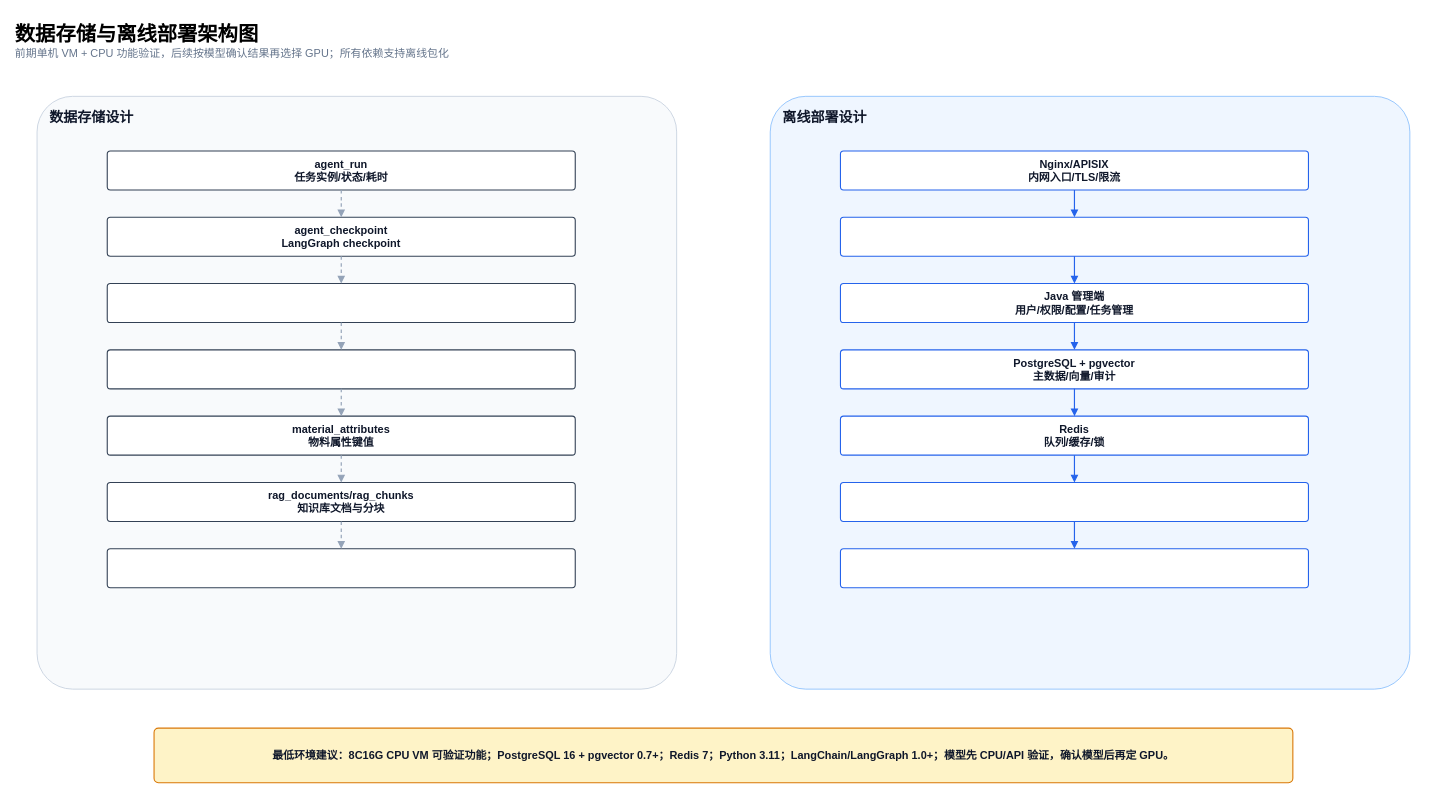
Image size: 1446x796. Some labels were removed from this diagram. Here are the shapes that lost their labels. From the top down, the box of each, then its label:
(840, 216, 1309, 256): Python 服务 FastAPI + LangGraph + RAG
(106, 283, 575, 323): metric_artifact 指标体系JSON/版本
(106, 349, 575, 389): material_master_rows 物料知识库整行快照
(840, 481, 1309, 522): Model Runtime CPU Local 验证，GPU/vLLM 后续切换
(106, 548, 575, 588): audit_log 审计/脱敏/工具调用
(840, 548, 1309, 588): Offline Repo wheels/images/models/补丁包
